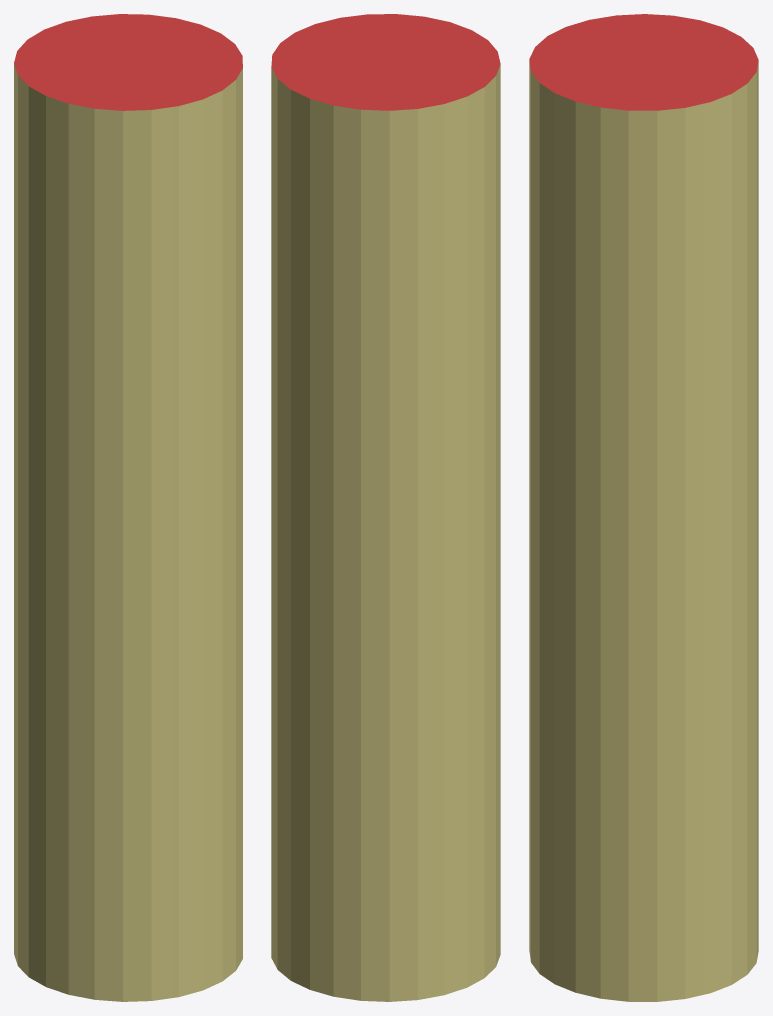
3 renders of one model, left to right at view 1: azimuth 30°, elevation 25°; view 2: azimuth 150°, elevation 25°; view 3: azimuth 270°, elevation 25°, orthographic.
Bounding box in the file's own units: 2.63 × 2.63 × 11.27.
